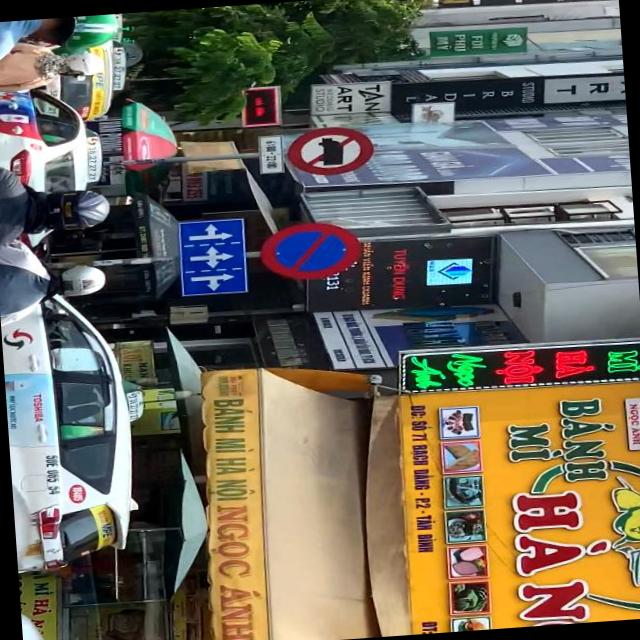P-131a: (258, 220, 362, 282)
